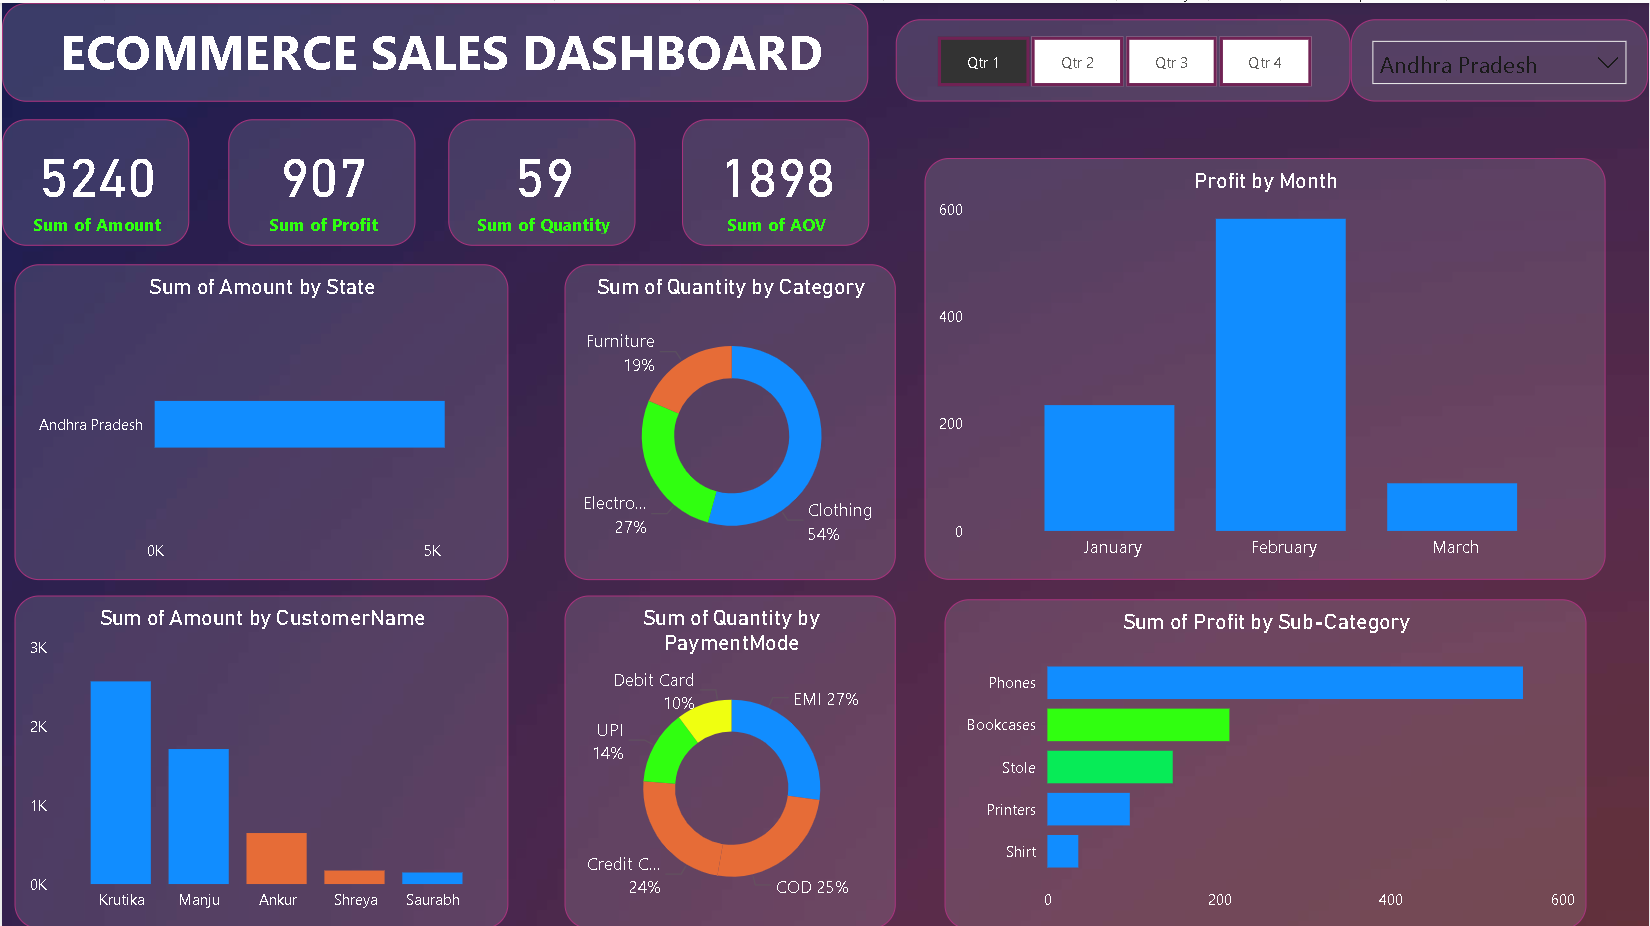

The dashboard page shown, as its layout file describes it:
{"tool":"powerbi","page":{"name":"Page 1","canvas":[1280,720],"ordinal":0},"visuals":[{"type":"textbox","box":[0,0,673.8,76.8],"z":0},{"type":"columnChart","title":" Profit by Month","fields":{"Category":["Orders.Order Date.Variation.Date Hierarchy.Month"],"Y":["Details.Profit"]},"box":[717.7,120.8,529.7,328],"z":1000},{"type":"barChart","fields":{"Category":["Details.Sub-Category"],"Y":["Details.Profit"]},"box":[732.8,463.8,499.5,256.6],"z":2000},{"type":"donutChart","fields":{"Category":["Details.Category"],"Y":["Details.Quantity"]},"box":[437.7,203.1,258,245.6],"z":3000},{"type":"donutChart","fields":{"Y":["Details.Quantity"],"Category":["Details.PaymentMode"]},"box":[437.7,461.1,258,259.3],"z":4000},{"type":"card","fields":{"Values":["Details.Amount"]},"box":[0,90.6,145.5,98.8],"z":5000},{"type":"card","fields":{"Values":["Details.Profit"]},"box":[175.6,90.6,145.5,98.8],"z":6000},{"type":"card","fields":{"Values":["Details.Quantity"]},"box":[347.2,90.6,145.5,98.8],"z":7000},{"type":"card","fields":{"Values":["Details.AOV"]},"box":[528.3,90.6,145.5,98.8],"z":8000},{"type":"barChart","fields":{"Category":["Orders.State"],"Y":["Details.Amount"]},"box":[9.6,203.1,384.2,245.6],"z":9000},{"type":"columnChart","fields":{"Category":["Orders.CustomerName"],"Y":["Details.Amount"]},"box":[9.6,461.1,384.2,259.3],"z":10000},{"type":"slicer","fields":{"Values":["Orders.Order Date.Variation.Date Hierarchy.Quarter"]},"box":[694.9,12.6,353.8,64.1],"z":11000},{"type":"slicer","fields":{"Values":["Orders.State"]},"box":[1048.8,12.8,231.4,64],"z":12000}]}

Visuals, with their boxes in screenshot pixels (x1, y1, x2, y2), scaled from the page's 1280x720 canvas onto the 1650x926 screenshot:
textbox: <region>0, 0, 869, 99</region>
" Profit by Month" columnChart: <region>925, 155, 1608, 577</region>
barChart - Details.Sub-Category x Details.Profit: <region>945, 596, 1589, 925</region>
donutChart - Details.Category x Details.Quantity: <region>564, 261, 897, 577</region>
donutChart - Details.Quantity x Details.PaymentMode: <region>564, 593, 897, 925</region>
card - Details.Amount: <region>0, 117, 188, 244</region>
card - Details.Profit: <region>226, 117, 414, 244</region>
card - Details.Quantity: <region>448, 117, 635, 244</region>
card - Details.AOV: <region>681, 117, 869, 244</region>
barChart - Orders.State x Details.Amount: <region>12, 261, 508, 577</region>
columnChart - Orders.CustomerName x Details.Amount: <region>12, 593, 508, 925</region>
slicer - Orders.Order Date.Variation.Date Hierarchy.Quarter: <region>896, 16, 1352, 99</region>
slicer - Orders.State: <region>1352, 16, 1649, 99</region>
